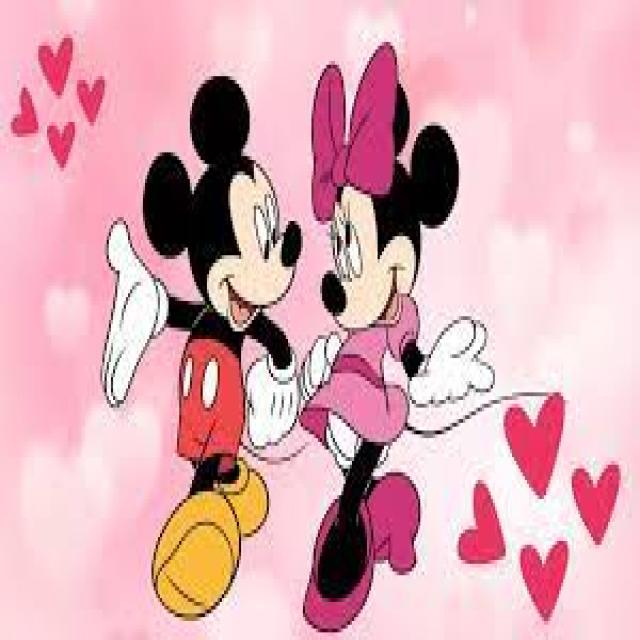mickey: (117, 60, 300, 602)
